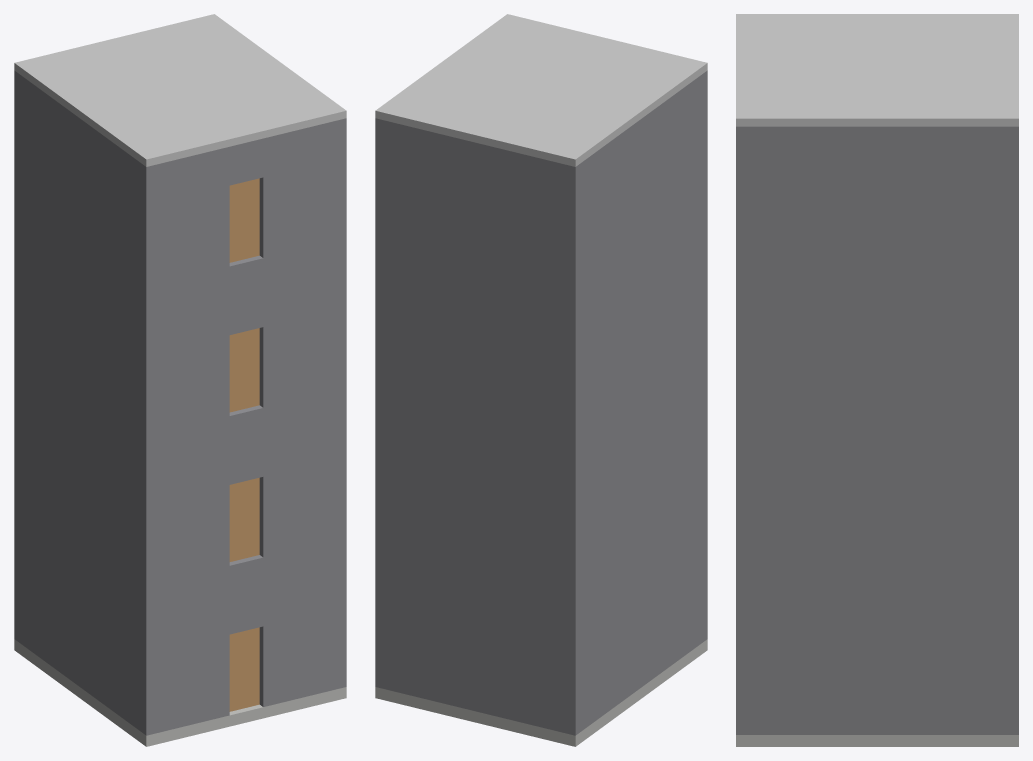
File: other_stairs.glb
3 views of the same model, side by side, from view 1: azimuth 30°, elevation 25°; view 2: azimuth 150°, elevation 25°; view 3: azimuth 270°, elevation 25° (orthographic). The views are drawn at different scales.
Visible parts, largest first — view 1: Stairs_Wall_W_1, Stairs_Wall_S_1, Stairs_Wall_S_6, Stairs_Ceiling, Stairs_Floor, Stairs_Wall_N_1, Stairs_Wall_S_3, Stairs_Wall_S_2, Stairs_Wall_S_4, DoorLeaf_atrium_L8, DoorLeaf_atrium_L4, DoorLeaf_atrium_L0 (+2 smaller); view 2: Stairs_Wall_N_1, Stairs_Wall_W_1, Stairs_Ceiling, Stairs_Floor, Stairs_Wall_S_1; view 3: Stairs_Wall_E_1, Stairs_Ceiling, Stairs_Wall_N_1, Stairs_Wall_S_6, Stairs_Floor.
Part boxes in pixels (left/top/right/bottom): Stairs_Wall_W_1: left=18, top=73, right=142, bottom=732; Stairs_Wall_S_1: left=142, top=147, right=229, bottom=735; Stairs_Wall_S_6: left=259, top=118, right=346, bottom=706; Stairs_Ceiling: left=14, top=14, right=346, bottom=166; Stairs_Floor: left=14, top=639, right=346, bottom=746; Stairs_Wall_N_1: left=14, top=70, right=18, bottom=641; Stairs_Wall_S_3: left=229, top=405, right=263, bottom=484; Stairs_Wall_S_2: left=229, top=555, right=263, bottom=634; Stairs_Wall_S_4: left=229, top=255, right=263, bottom=334; DoorLeaf_atrium_L8: left=229, top=328, right=259, bottom=412; DoorLeaf_atrium_L4: left=229, top=477, right=259, bottom=561; DoorLeaf_atrium_L0: left=229, top=627, right=259, bottom=711; Stairs_Wall_N_1: left=375, top=118, right=579, bottom=735; Stairs_Wall_W_1: left=579, top=73, right=703, bottom=732; Stairs_Ceiling: left=375, top=14, right=707, bottom=166; Stairs_Floor: left=375, top=639, right=707, bottom=746; Stairs_Wall_S_1: left=703, top=70, right=707, bottom=641; Stairs_Wall_E_1: left=745, top=126, right=1009, bottom=734; Stairs_Ceiling: left=736, top=14, right=1018, bottom=126; Stairs_Wall_N_1: left=1010, top=126, right=1018, bottom=734; Stairs_Wall_S_6: left=736, top=126, right=744, bottom=734; Stairs_Floor: left=736, top=735, right=1018, bottom=746.
Bounding box in the file's own units: 5.6 × 15.7 × 6.4.
